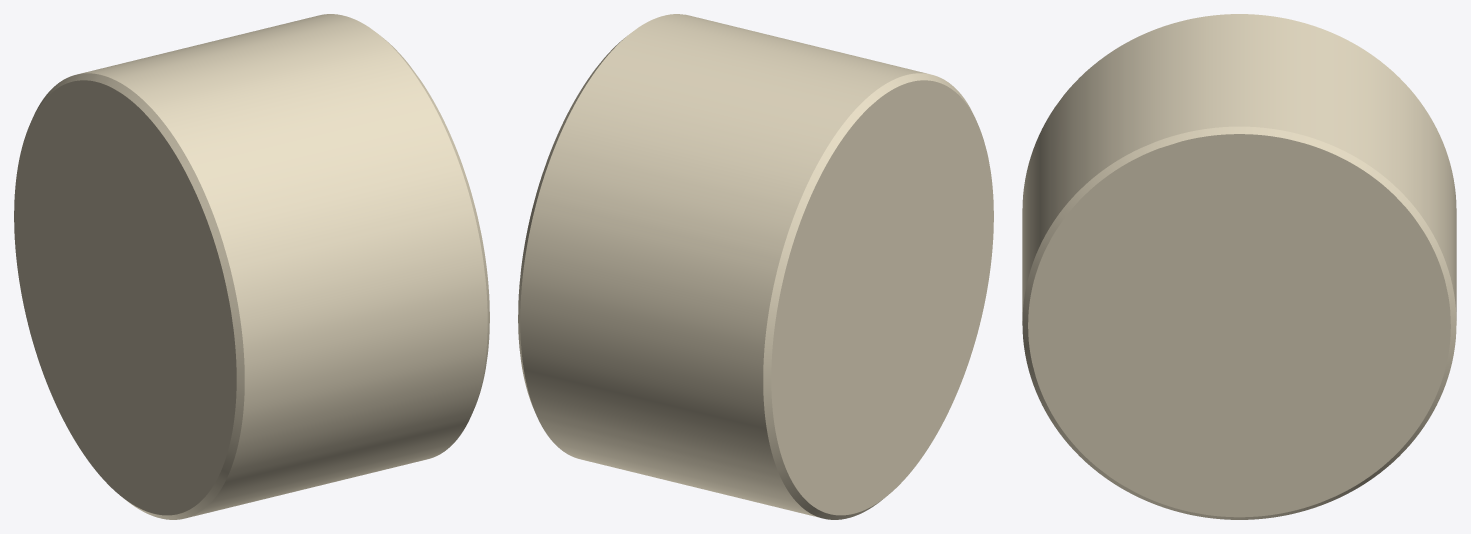
The model's file is takoz-furukawa-f22-buffer-guide-02.glb.
3 views of the same model, side by side, from view 1: azimuth 30°, elevation 25°; view 2: azimuth 150°, elevation 25°; view 3: azimuth 270°, elevation 25° (orthographic). The views are drawn at different scales.
Visible parts, largest first — view 1: body; view 2: body; view 3: body.
Boxes of the visible parts, bbox=[...] form: body: bbox=[14, 14, 489, 519]; body: bbox=[518, 14, 993, 519]; body: bbox=[1022, 14, 1456, 519].
Size of the model in its own units: 0.0985 by 0.154 by 0.154.
